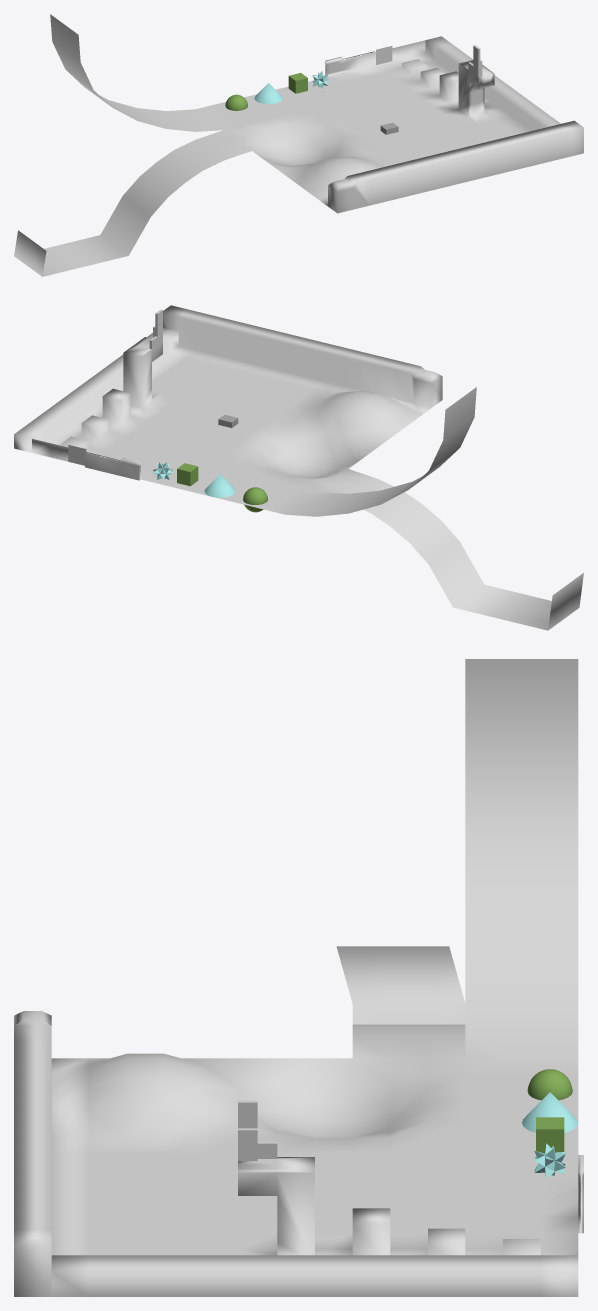
Rendered from Ground5.fbx.
3 views of the same model, one above another, from view 1: azimuth 30°, elevation 25°; view 2: azimuth 150°, elevation 25°; view 3: azimuth 270°, elevation 25° (orthographic). The views are drawn at different scales.
Visible parts, largest first — view 1: pSphere5; view 2: pSphere5; view 3: pSphere5.
Part boxes in pixels (<box>): pSphere5: <box>14,14,583,276</box>; pSphere5: <box>14,305,583,630</box>; pSphere5: <box>14,659,583,1296</box>.
Bounding box in the file's own units: 185 × 79.64 × 101.
